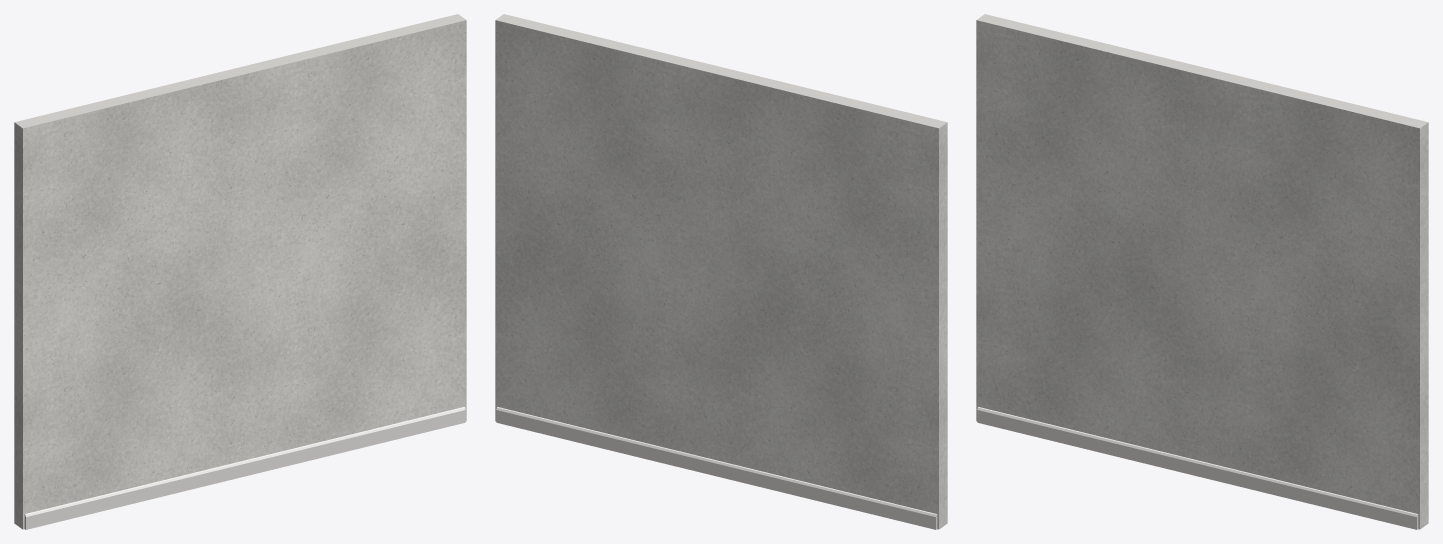
The picture shows the model from 3 angles, left to right: view 1: azimuth 30°, elevation 25°; view 2: azimuth 150°, elevation 25°; view 3: azimuth 330°, elevation 25°; orthographic projection.
Visible parts, largest first — view 1: pw_364_plaster, pw_364_trim; view 2: pw_364_plaster, pw_364_trim; view 3: pw_364_plaster, pw_364_trim.
Part boxes in pixels (bbox=[...]): pw_364_plaster: bbox=[14, 14, 466, 529]; pw_364_trim: bbox=[24, 407, 465, 529]; pw_364_plaster: bbox=[495, 14, 947, 529]; pw_364_trim: bbox=[496, 407, 937, 529]; pw_364_plaster: bbox=[976, 14, 1428, 529]; pw_364_trim: bbox=[977, 407, 1418, 529].
Size of the model in its own units: 3.64 by 3.14 by 0.152.
Materials: 2 (1 with a texture image).
